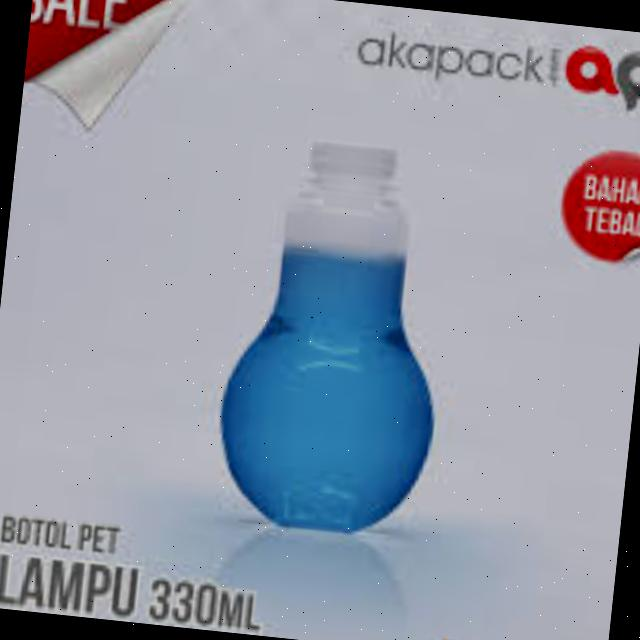trash: (200, 124, 473, 548)
